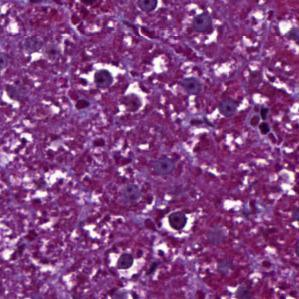inflammation: (181, 6, 224, 45), (84, 59, 125, 92), (112, 245, 149, 276), (116, 86, 150, 119), (158, 208, 198, 235)
